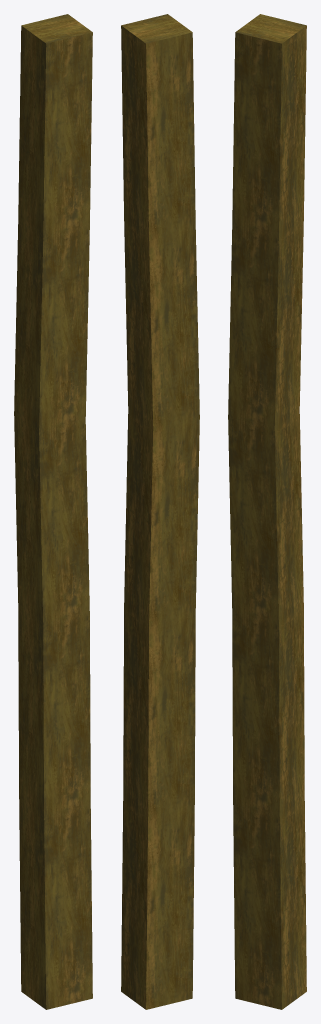
File: Wood Pillar Long.fbx
3 renders of one model, left to right at view 1: azimuth 30°, elevation 25°; view 2: azimuth 210°, elevation 25°; view 3: azimuth 330°, elevation 25°, orthographic.
Visible parts, largest first — view 1: Wood_Pillar_Long_Thick; view 2: Wood_Pillar_Long_Thick; view 3: Wood_Pillar_Long_Thick.
Part boxes in pixels (bbox=[...]): Wood_Pillar_Long_Thick: bbox=[14, 14, 92, 1009]; Wood_Pillar_Long_Thick: bbox=[121, 14, 199, 1009]; Wood_Pillar_Long_Thick: bbox=[228, 14, 306, 1009].
Size of the model in its own units: 36.42 by 625 by 29.28.
